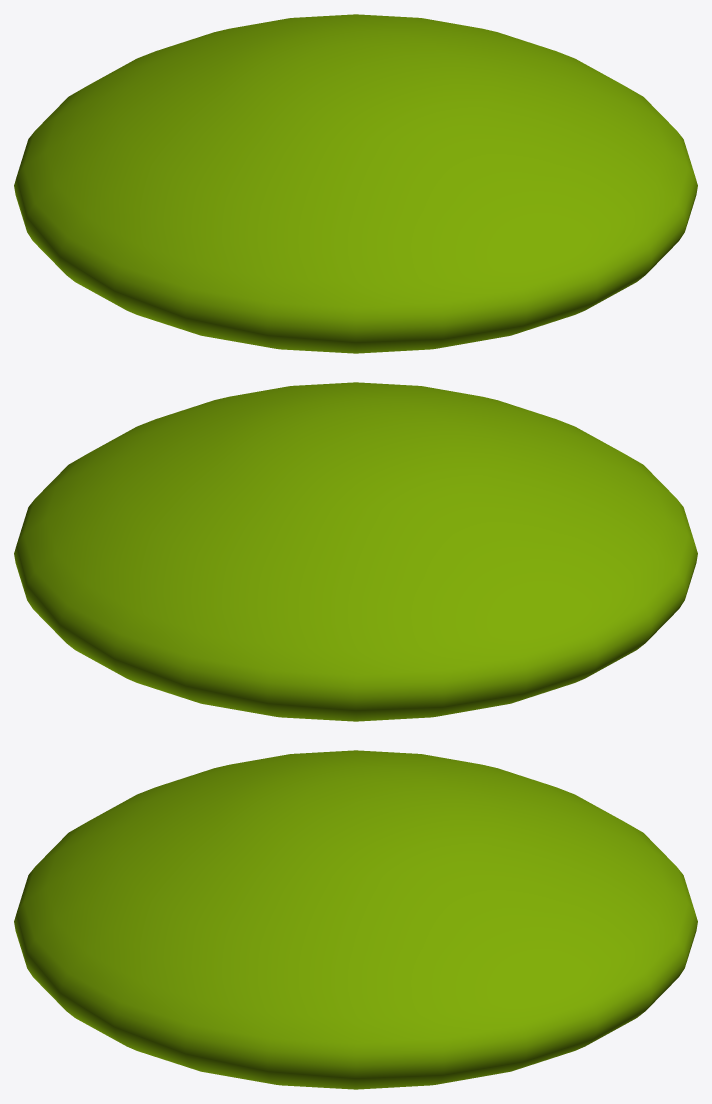
The model's file is HPEo50cm.glb.
3 renders of one model, top to bottom at view 1: azimuth 30°, elevation 25°; view 2: azimuth 150°, elevation 25°; view 3: azimuth 270°, elevation 25°, orthographic.
Parts seen in each view (by area): view 1: HPEo50cm; view 2: HPEo50cm; view 3: HPEo50cm.
Part boxes in pixels (x1=…): HPEo50cm: x1=14, y1=14, x2=697, y2=353; HPEo50cm: x1=14, y1=382, x2=697, y2=721; HPEo50cm: x1=14, y1=750, x2=697, y2=1089.
Bounding box in the file's own units: 1.5 × 0.4993 × 1.5.
